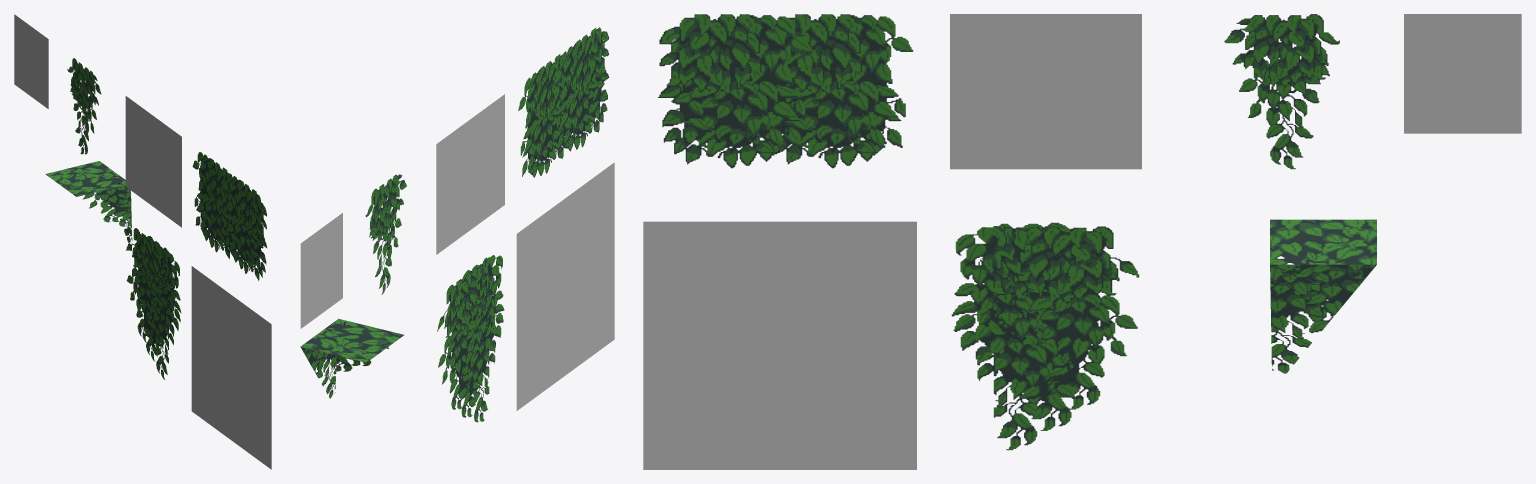
File: ivy_all_variations.fbx
3 renders of one model, left to right at view 1: azimuth 30°, elevation 25°; view 2: azimuth 150°, elevation 25°; view 3: azimuth 270°, elevation 25°, orthographic. The views are drawn at different scales.
Parts seen in each view (by area): view 1: Plane, Plane.003, Plane.002, Plane.001, Cube, Plane.005, Plane.004; view 2: Plane, Plane.003, Plane.002, Plane.001, Plane.005, Cube, Plane.004; view 3: Plane, Plane.003, Plane.002, Plane.001, Plane.005, Cube, Plane.004.
Boxes of the visible parts, x1,y1,x2,y2 form: Plane: (191, 266, 271, 469); Plane.003: (192, 152, 267, 280); Plane.002: (125, 96, 181, 227); Plane.001: (126, 228, 181, 379); Cube: (45, 161, 132, 243); Plane.005: (14, 14, 48, 108); Plane.004: (67, 58, 101, 154); Plane: (516, 162, 614, 410); Plane.003: (518, 27, 609, 177); Plane.002: (436, 94, 504, 254); Plane.001: (437, 255, 504, 422); Plane.005: (300, 213, 342, 328); Cube: (300, 318, 403, 398); Plane.004: (365, 174, 406, 294); Plane: (643, 221, 916, 469); Plane.003: (658, 14, 913, 168); Plane.002: (950, 14, 1141, 169); Plane.001: (951, 222, 1139, 450); Plane.005: (1404, 14, 1521, 133); Cube: (1270, 219, 1376, 373); Plane.004: (1224, 14, 1339, 169).
Size of the model in its own units: 81.67 by 367 by 642.
